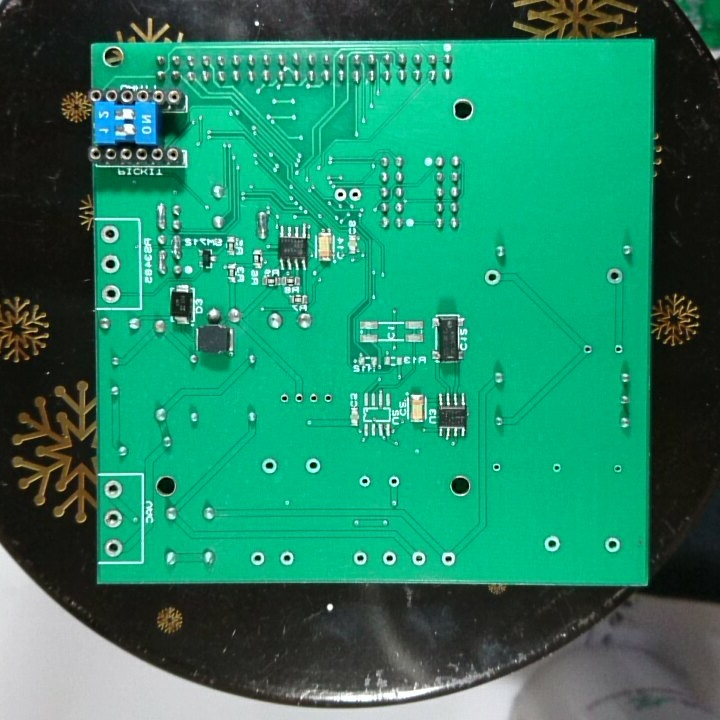F: (102, 535, 127, 558), (100, 252, 122, 278), (99, 222, 121, 248), (99, 282, 124, 304), (102, 478, 125, 501), (377, 547, 399, 570), (102, 507, 124, 530), (604, 265, 625, 289), (303, 455, 325, 477), (259, 455, 280, 478), (482, 267, 504, 288), (601, 535, 622, 557), (542, 533, 562, 556), (350, 548, 371, 569), (408, 548, 428, 569), (355, 472, 375, 492), (437, 549, 457, 568), (248, 549, 267, 569), (277, 549, 297, 567), (347, 186, 363, 205), (579, 340, 595, 359), (386, 472, 402, 491), (332, 186, 348, 204), (609, 460, 625, 478), (306, 390, 322, 408), (322, 389, 336, 409), (610, 341, 625, 358), (549, 460, 564, 477), (277, 389, 291, 407), (489, 459, 503, 476), (291, 392, 306, 406)
P: (254, 208, 271, 243), (156, 245, 169, 279), (154, 201, 168, 232), (170, 232, 183, 260)
